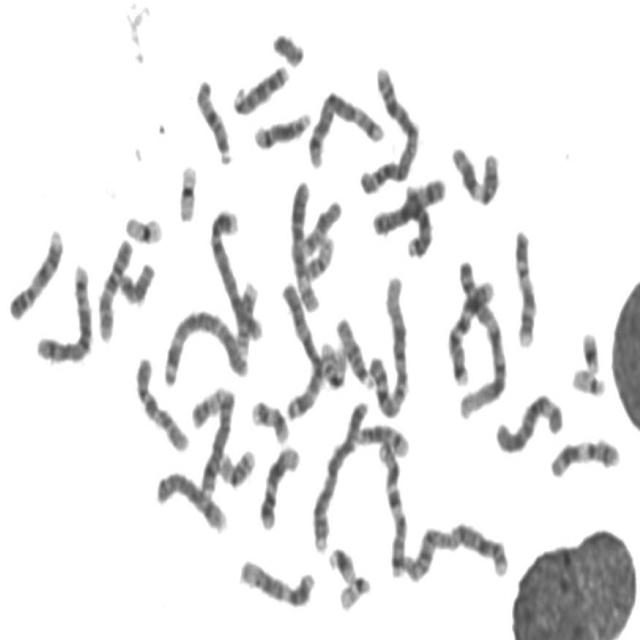A1: (449, 253, 510, 422), (364, 266, 412, 422)
A2: (355, 59, 422, 196), (397, 513, 511, 584)
A3: (159, 301, 252, 388), (276, 274, 326, 422)
B4: (308, 390, 370, 554), (206, 198, 264, 344)
B5: (304, 84, 388, 170), (31, 256, 94, 366)
C10: (130, 348, 191, 456), (93, 229, 135, 344)
C11: (446, 137, 502, 207), (546, 430, 622, 480)
C12: (234, 552, 317, 610), (255, 437, 302, 532)
C6: (490, 385, 565, 457), (286, 173, 322, 314)
C7: (444, 270, 497, 387), (374, 434, 408, 580)
C8: (152, 464, 229, 535), (196, 380, 237, 498)
C9: (4, 220, 66, 322), (509, 221, 538, 351)
D13: (228, 56, 290, 117), (399, 178, 434, 260)
D14: (249, 102, 313, 152), (350, 416, 412, 459)
D15: (191, 71, 234, 166), (331, 308, 375, 391)
E16: (213, 440, 257, 490), (316, 334, 349, 391)
E17: (231, 274, 261, 356), (247, 392, 291, 446)
E18: (298, 192, 344, 258), (114, 253, 158, 306)
F19: (173, 155, 200, 224), (121, 206, 165, 246)
F20: (300, 228, 336, 281), (188, 380, 225, 430)
G21: (324, 539, 358, 585), (577, 322, 603, 375)
G22: (335, 568, 372, 613), (567, 360, 608, 398)
X: (368, 169, 448, 238)
Y: (268, 23, 306, 68)
